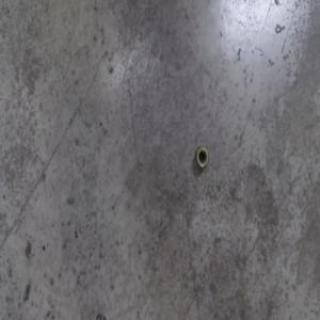Nuttrack_idkeyframe: (195, 145, 208, 170)
